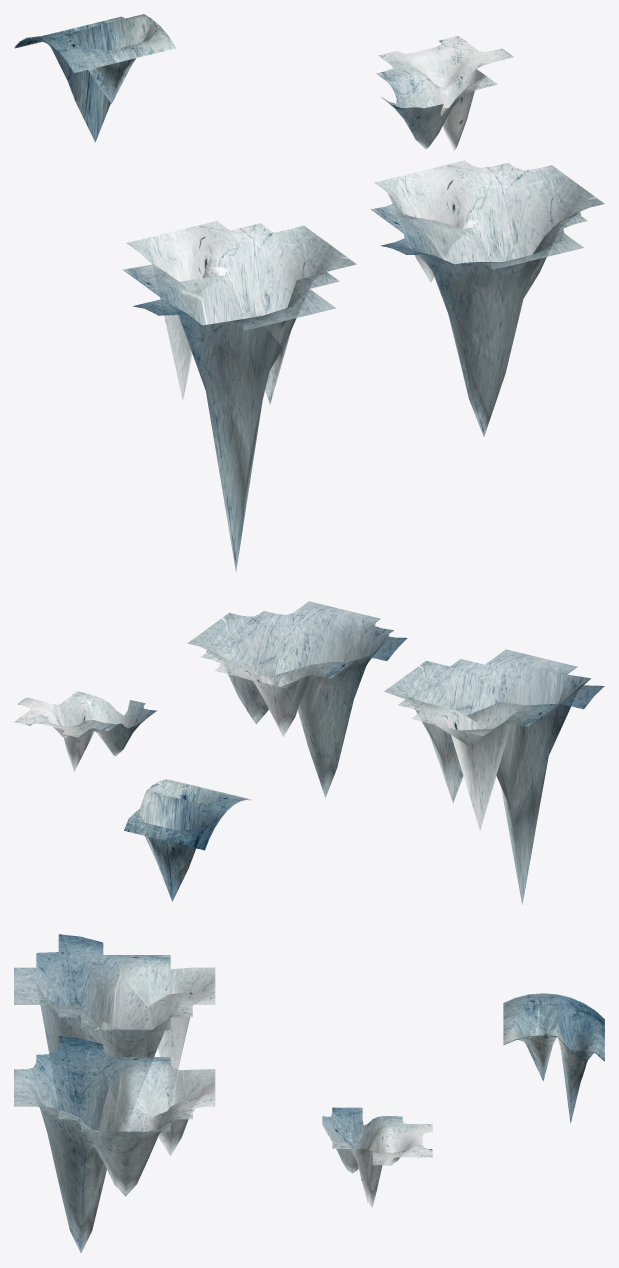
Rendered from Model_DivIstapper.FBX.
3 renders of one model, top to bottom at view 1: azimuth 30°, elevation 25°; view 2: azimuth 150°, elevation 25°; view 3: azimuth 270°, elevation 25°, orthographic. The views are drawn at different scales.
Parts seen in each view (by area): view 1: Plane002, Plane004, Plane003, Cylinder001; view 2: Plane002, Plane004, Cylinder001, Plane003; view 3: Plane002, Plane004, Cylinder001, Plane003.
Boxes of the visible parts, x1,y1,x2,y2 form: Plane002: (122, 221, 356, 572); Plane004: (371, 160, 604, 436); Plane003: (376, 36, 513, 150); Cylinder001: (14, 14, 175, 142); Plane002: (384, 649, 604, 904); Plane004: (187, 601, 407, 797); Cylinder001: (124, 779, 251, 901); Plane003: (14, 691, 156, 771); Plane002: (14, 934, 215, 1129); Plane004: (14, 1036, 215, 1253); Cylinder001: (503, 993, 604, 1123); Plane003: (322, 1107, 432, 1207).
Size of the model in its own units: 334 by 181 by 374.
Materials: 1 (1 with a texture image).
